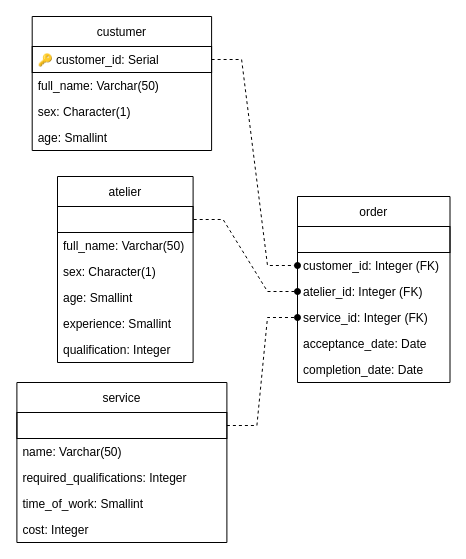
The diagram is 466 pixels wide and 559 high, and some of its shapes have lost their labels. The shapes that lost their labels are listed below. From the top down, each one's centre as x and y in pixels, then its label:
[124,219]: 🔑 atelier_id: Serial
[373,239]: 🔑 order_id: Serial
[121,425]: 🔑 service_id: Serial
